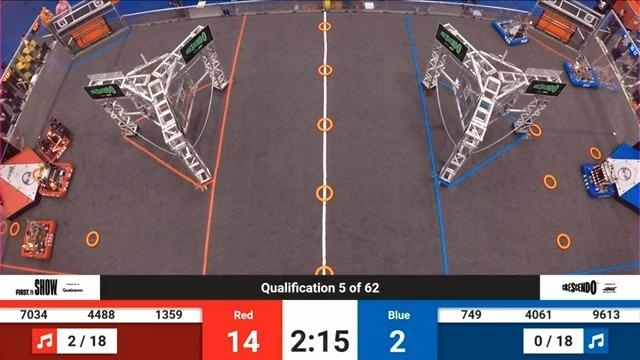robot: (9, 209, 70, 266), (28, 114, 77, 165), (576, 151, 621, 204), (28, 163, 83, 199), (487, 12, 542, 48), (563, 47, 598, 97)
